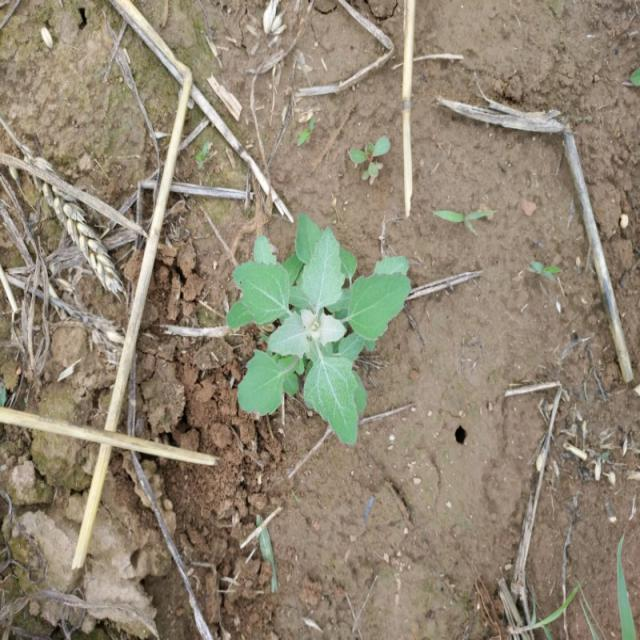goosefoots: (202, 202, 417, 438)
